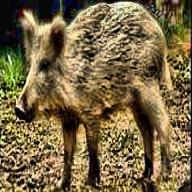boar: (15, 4, 185, 185)
